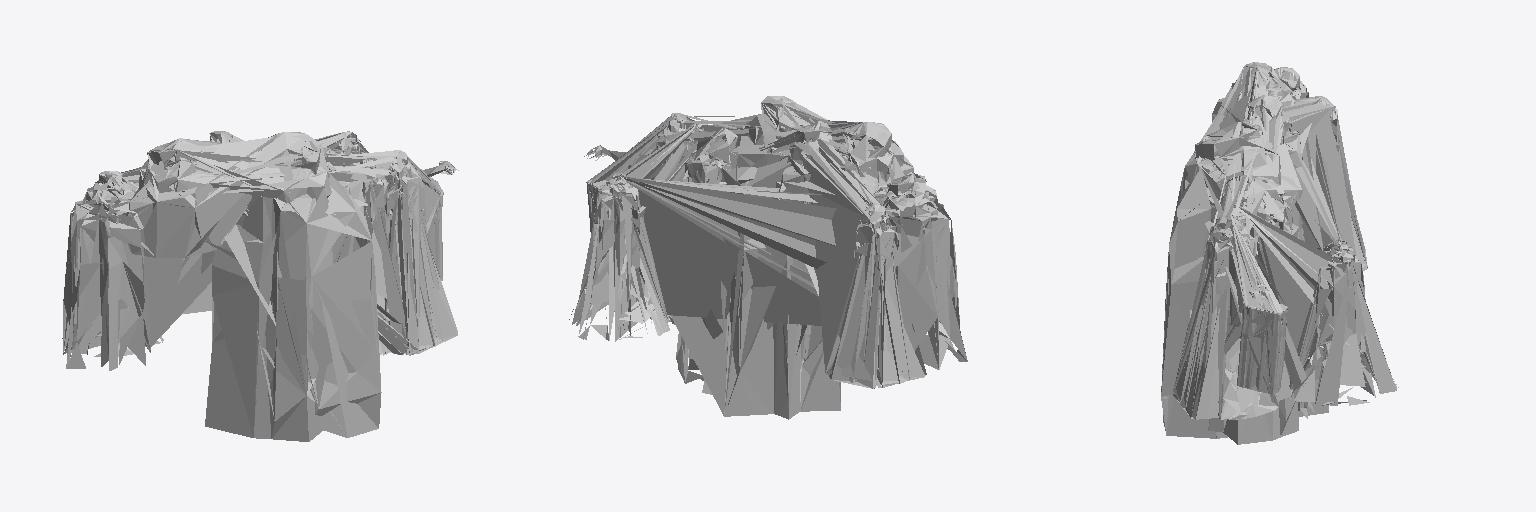
The model's file is cellRanch_PassageLab_Proxy-sharedassets3.assets-622.obj.
3 renders of one model, left to right at view 1: azimuth 30°, elevation 25°; view 2: azimuth 150°, elevation 25°; view 3: azimuth 270°, elevation 25°, orthographic.
Parts seen in each view (by area): view 1: cellRanch_PassageLab_Proxy_5, cellRanch_PassageLab_Proxy_2, cellRanch_PassageLab_Proxy_3, cellRanch_PassageLab_Proxy_0; view 2: cellRanch_PassageLab_Proxy_5, cellRanch_PassageLab_Proxy_2, cellRanch_PassageLab_Proxy_3; view 3: cellRanch_PassageLab_Proxy_5, cellRanch_PassageLab_Proxy_2, cellRanch_PassageLab_Proxy_3, cellRanch_PassageLab_Proxy_0, cellRanch_PassageLab_Proxy_6, cellRanch_PassageLab_Proxy_1.
Boxes of the visible parts, x1,y1,x2,y2 form: cellRanch_PassageLab_Proxy_5: [62, 131, 458, 438]; cellRanch_PassageLab_Proxy_2: [71, 131, 457, 441]; cellRanch_PassageLab_Proxy_3: [126, 132, 457, 441]; cellRanch_PassageLab_Proxy_0: [385, 152, 443, 355]; cellRanch_PassageLab_Proxy_5: [569, 96, 967, 415]; cellRanch_PassageLab_Proxy_2: [587, 96, 926, 419]; cellRanch_PassageLab_Proxy_3: [588, 96, 911, 415]; cellRanch_PassageLab_Proxy_5: [1161, 62, 1398, 444]; cellRanch_PassageLab_Proxy_2: [1161, 62, 1367, 438]; cellRanch_PassageLab_Proxy_3: [1169, 64, 1328, 418]; cellRanch_PassageLab_Proxy_0: [1173, 217, 1287, 418]; cellRanch_PassageLab_Proxy_6: [1237, 303, 1286, 394]; cellRanch_PassageLab_Proxy_1: [1230, 215, 1287, 393].
Bounding box in the file's own units: 193 × 140 × 102.